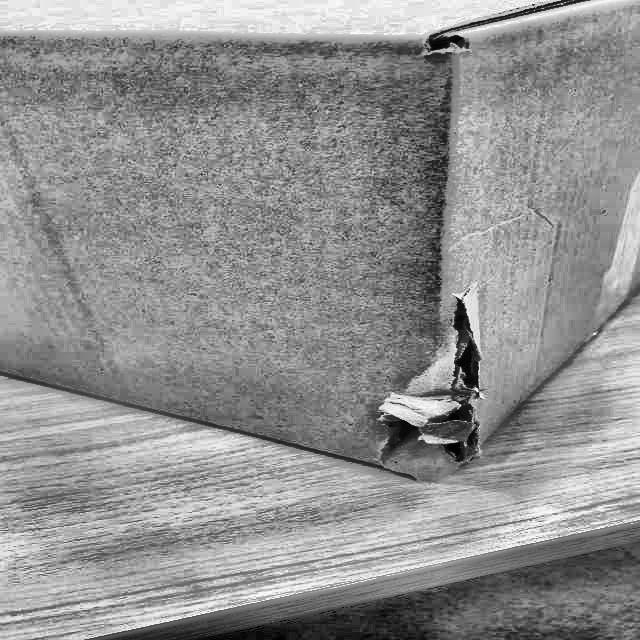box: (0, 0, 639, 503)
hole: (371, 291, 488, 484)
